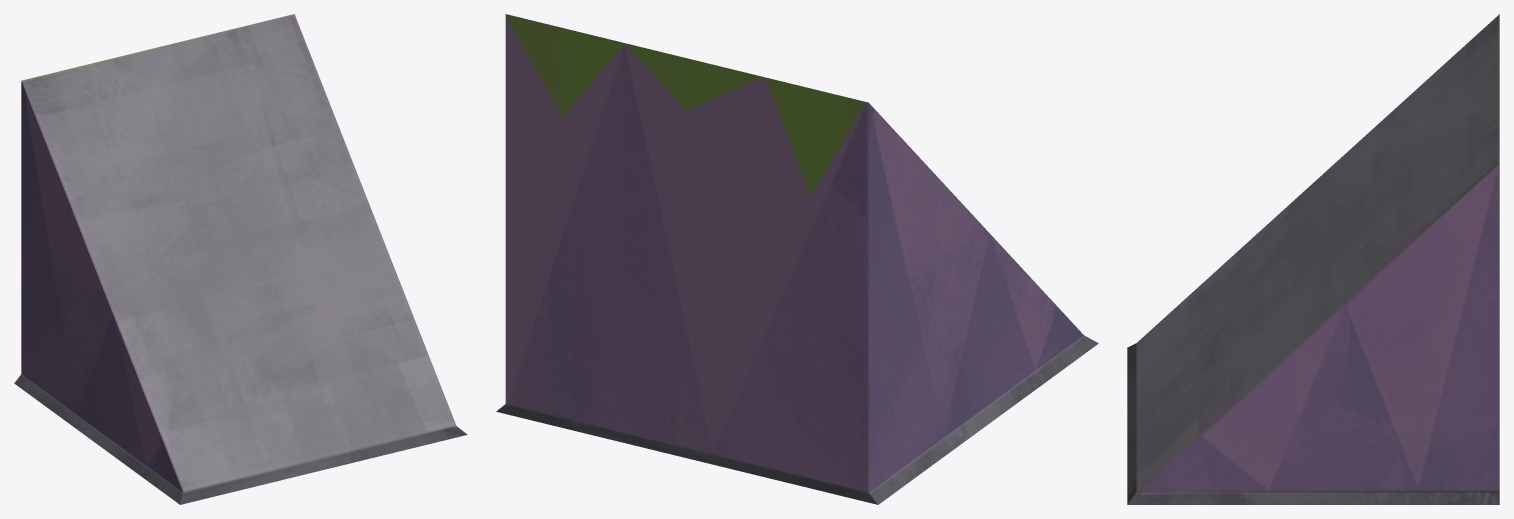
The model's file is tile_ramp.fbx.
The picture shows the model from 3 angles, left to right: view 1: azimuth 30°, elevation 25°; view 2: azimuth 150°, elevation 25°; view 3: azimuth 270°, elevation 25°; orthographic projection. The views are drawn at different scales.
Visible parts, largest first — view 1: tile_ramp; view 2: tile_ramp; view 3: tile_ramp.
Boxes of the visible parts, x1,y1,x2,y2 form: tile_ramp: [14, 14, 467, 504]; tile_ramp: [496, 14, 1098, 504]; tile_ramp: [1127, 14, 1499, 504].
Size of the model in its own units: 0.02 by 0.02 by 0.02.
